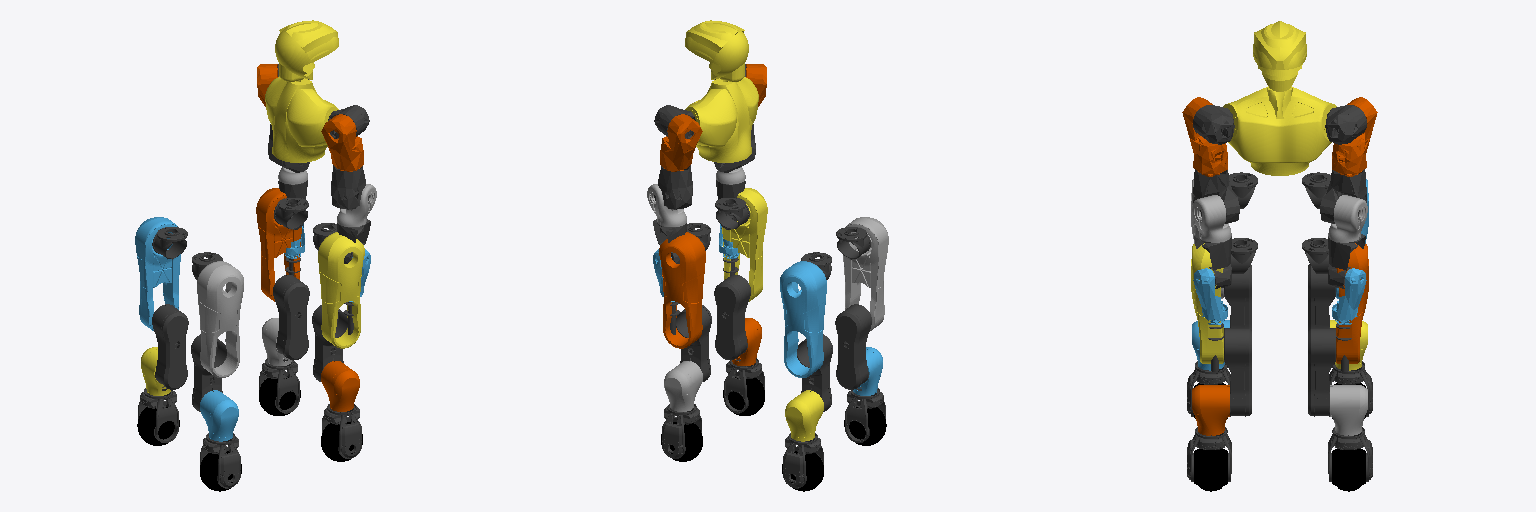
--- Render facts (derived) ---
3 views of the same robot in one strip: view 1: azimuth 30°, elevation 25°; view 2: azimuth 150°, elevation 25°; view 3: azimuth 270°, elevation 25° (orthographic).
Robot: centauro — 44 links, 43 joints (35 revolute, 4 continuous, 3 fixed, 1 floating); root link world; default pose: every joint at zero.
Links seen in each view (by area): view 1: torso_2, hip2_4, hip2_2, hip2_3, knee_1, knee_3, hip2_1, arm2_2, ankle1_2, ankle1_4, ankle2_4, ankle2_2 (+16 smaller); view 2: torso_2, hip2_3, hip2_1, hip2_4, knee_2, knee_4, hip2_2, arm1_2, ankle1_1, ankle1_3, ankle2_3, ankle2_1 (+16 smaller); view 3: torso_2, knee_1, knee_2, ankle1_1, ankle1_2, hip2_1, hip2_2, arm1_2, arm2_2, arm1_4, arm2_4, wheel_1 (+19 smaller).
Boxes of the visible links, <box> form: torso_2: <box>265,20,338,162</box>; hip2_4: <box>197,261,243,377</box>; hip2_2: <box>318,232,364,348</box>; hip2_3: <box>135,217,180,330</box>; knee_1: <box>273,275,309,359</box>; knee_3: <box>152,304,188,389</box>; hip2_1: <box>256,188,301,301</box>; arm2_2: <box>321,114,363,171</box>; ankle1_2: <box>321,361,359,411</box>; ankle1_4: <box>200,390,238,441</box>; ankle2_4: <box>200,433,240,488</box>; ankle2_2: <box>322,404,361,458</box>; torso_2: <box>685,20,758,162</box>; hip2_3: <box>780,261,826,377</box>; hip2_1: <box>659,232,705,348</box>; hip2_4: <box>843,217,888,330</box>; knee_2: <box>714,275,750,359</box>; knee_4: <box>835,304,871,389</box>; hip2_2: <box>722,188,767,301</box>; arm1_2: <box>660,114,702,171</box>; ankle1_1: <box>664,361,702,411</box>; ankle1_3: <box>785,390,823,441</box>; ankle2_3: <box>783,433,823,488</box>; ankle2_1: <box>662,404,701,458</box>; torso_2: <box>1223,21,1336,175</box>; knee_1: <box>1308,328,1335,416</box>; knee_2: <box>1224,328,1251,416</box>; ankle1_1: <box>1330,385,1367,435</box>; ankle1_2: <box>1192,385,1229,435</box>; hip2_1: <box>1336,243,1368,363</box>; hip2_2: <box>1191,243,1223,363</box>; arm1_2: <box>1332,97,1377,176</box>; arm2_2: <box>1182,97,1227,176</box>; arm1_4: <box>1328,195,1367,242</box>; arm2_4: <box>1192,195,1231,242</box>; wheel_1: <box>1332,449,1365,491</box>.
Bounding box of the posed robot: 0.7133 × 0.6319 × 1.64 m (x, y, z).
41 mesh visuals loaded from 16 distinct referenced files (15 binary STL); not drawn: 1 (reference not matched to a file when rendering).

robot.urdf — centauro:
<?xml version="1.0" ?>
<!-- =================================================================================== -->
<!-- |    This document was autogenerated by xacro from centauro.urdf.xacro            | -->
<!-- |    EDITING THIS FILE BY HAND IS NOT RECOMMENDED                                 | -->
<!-- =================================================================================== -->
<robot name="centauro" xmlns:xacro="http://www.ros.org/wiki/xacro">
  <!-- /constants -->
  <!-- Here all arguments from launch file are evaluated to the final xacro poropeties.
     Also all the parameter dependencies are resolved-->
  <material name="grey">
    <color rgba="0.5 0.5 0.5 1"/>
  </material>
  <material name="dark_grey">
    <color rgba="0.3 0.3 0.3 1"/>
  </material>
  <material name="blue">
    <color rgba="0.0 0.2 0.3 1"/>
  </material>
  <material name="red">
    <color rgba="0.5 0.1 0.2 1"/>
  </material>
  <material name="black">
    <color rgba="0.0 0.0 0.0 1"/>
  </material>
  <!-- Here all arguments from launch file are evaluated to the final xacro poropeties.
     Also all the parameter dependencies are resolved-->
  <!-- load proper collision model -->
  <!-- load proper collision model -->
  <!-- load proper collision model -->
  <!-- load proper collision model -->
  <!-- Here all arguments from launch file are evaluated to the final xacro poropeties.
     Also all the parameter dependencies are resolved-->
  <!-- load proper collision model -->
  <!-- load proper collision model -->
  <!-- load proper collision model -->
  <!-- load proper collision model -->
  <!-- /macro legs -->
  <!-- /macro arms -->
  <!-- /other files -->
  <!-- reference -->
  <!-- <link name="base_link"/>

<joint name="base_joint" type="fixed">
   <origin xyz="0 0 0"/>
   <parent link="base_link"/>
   <child link="world"/>
</joint>
-->
  <link name="world"/>
  <link name="pelvis">
    <inertial>
      <origin xyz="-0.013541342 -0.0029098264 0.01400721"/>
      <mass value="24.190945"/>
      <inertia ixx="0.20021119" ixy="-0.0038421093" ixz="-0.033298849" iyy="0.51136214" iyz="0.004469847" izz="0.54401411"/>
    </inertial>
    <visual>
      <origin rpy="0.0 0.0 0.0" xyz="0.0 0 0.0"/>
      <geometry>
        <mesh filename="package://centauro/centauro_urdf/meshes/pelvis.stl" scale="0.001 0.001 0.001"/>
      </geometry>
    </visual>
    <collision>
      <origin rpy="0.0 0.0 0.0" xyz="0.0 0 0.0"/>
      <geometry>
        <mesh filename="package://centauro/centauro_urdf/meshes/convex_hull/pelvis.stl" scale="0.001 0.001 0.001"/>
      </geometry>
    </collision>
  </link>
  <link name="imu_link">
    <inertial>
      <mass value="0.0"/>
      <inertia ixx="0.0" ixy="0.0" ixz="0.0" iyy="0.0" iyz="0.0" izz="0.0"/>
    </inertial>
  </link>
  <joint name="imu_joint" type="fixed">
    <parent link="pelvis"/>
    <origin rpy="0.0 0.0 0.0" xyz="0.0 0.0 0.0"/>
    <child link="imu_link"/>
  </joint>
  <joint name="reference" type="floating">
    <origin xyz="0.0 0.0 0.93445"/>
    <parent link="world"/>
    <child link="pelvis"/>
  </joint>
  <!-- /reference  -->
  <!-- torso links -->
  <link name="torso_2">
    <inertial>
      <origin xyz="0.0064454169 0.0021390093 0.14302095"/>
      <mass value="6.1886404"/>
      <inertia ixx="0.063643392" ixy="8.939e-05" ixz="-0.00086873" iyy="0.02680235" iyz="-4.657e-05" izz="0.04743015"/>
    </inertial>
    <visual>
      <origin rpy="0.0 0.0 0.0" xyz="0.0 0 0.0"/>
      <geometry>
        <mesh filename="package://centauro/centauro_urdf/meshes/link1.stl" scale="0.001 0.001 0.001"/>
      </geometry>
    </visual>
    <collision>
      <origin rpy="0.0 0.0 0.0" xyz="0.0 0 0.0"/>
      <geometry>
        <mesh filename="package://centauro/centauro_urdf/meshes/convex_hull/link1.stl" scale="0.001 0.001 0.001"/>
      </geometry>
    </collision>
  </link>
  <!-- /torso links -->
  <!-- torso joints -->
  <joint name="torso_yaw" type="revolute">
    <parent link="pelvis"/>
    <origin xyz="0.2 0.0 0.256"/>
    <child link="torso_2"/>
    <axis xyz="0 0 1"/>
    <limit effort="147" lower="-2.618" upper="2.618" velocity="5.7"/>
    <!-- TODO -->
  </joint>
  <!-- /torso joints -->
  <transmission name="t_torso_yaw">
    <type> transmission_interface/SimpleTransmission</type>
    <joint name="torso_yaw">
      <hardwareInterface>hardware_interface/EffortJointInterface</hardwareInterface>
    </joint>
    <actuator name="motor_torso_yaw">
      <hardwareInterface>hardware_interface/EffortJointInterface</hardwareInterface>
      <machanicalReduction>1</machanicalReduction>
    </actuator>
    <robotNamespace>/centauro</robotNamespace>
  </transmission>
  <!-- /torso actuators -->
  <!-- /torso -->
  <!-- LINKS -->
  <!-- shoulder yaw-roll-->
  <link name="arm1_1">
    <inertial>
      <origin xyz="-0.0031005886 0.040324584 0.007451937"/>
      <mass value="1.5583338"/>
      <inertia ixx="0.0032318636" ixy="4.24587e-05" ixz="4.91626e-05" iyy="0.00275718" iyz="-0.0002387056" izz="0.004275047"/>
    </inertial>
    <visual>
      <origin rpy="0.0 0.0 0.0" xyz="0.0 0.0 0.0"/>
      <geometry>
        <mesh filename="package://centauro/centauro_urdf/meshes/link2.stl" scale="0.001 -0.001 0.001"/>
      </geometry>
      <material name="dark_grey"/>
    </visual>
    <collision>
      <origin rpy="0.0 0.0 0.0" xyz="0.0 0.0 0.0"/>
      <geometry>
        <mesh filename="package://centauro/centauro_urdf/meshes/convex_hull/link2.stl" scale="0.001 -0.001 0.001"/>
      </geometry>
    </collision>
  </link>
  <!-- shoulder yaw-roll-->
  <!-- shoulder roll-pitch-->
  <link name="arm1_2">
    <inertial>
      <origin xyz="0.05105435 0.00011109 -0.07643596"/>
      <mass value="1.515061"/>
      <inertia ixx="0.01029558" ixy="2.846e-05" ixz="0.0036567" iyy="0.01178018" iyz="2.088e-05" izz="0.00386123"/>
    </inertial>
    <visual>
      <origin rpy="0.0 0.0 0.0" xyz="0.0 0.0 0.0"/>
      <geometry>
        <mesh filename="package://centauro/centauro_urdf/meshes/link3.stl" scale="0.001 -0.001 0.001"/>
      </geometry>
    </visual>
    <collision>
      <origin rpy="0.0 0.0 0.0" xyz="0.0 0.0 0.0"/>
      <geometry>
        <mesh filename="package://centauro/centauro_urdf/meshes/convex_hull/link3.stl" scale="0.001 -0.001 0.001"/>
      </geometry>
    </collision>
  </link>
  <!-- shoulder roll-pitch-->
  <!-- shoulder-elbow -->
  <link name="arm1_3">
    <inertial>
      <origin xyz="0.01207624 0.00322013 -0.03427312"/>
      <mass value="1.5088101"/>
      <inertia ixx="0.00469819" ixy="-0.00026547" ixz="0.00077706" iyy="0.00501755" iyz="0.00029679" izz="0.00310954"/>
    </inertial>
    <visual>
      <origin rpy="0.0 0.0 0.0" xyz="0.0 0.0 0.0"/>
      <geometry>
        <mesh filename="package://centauro/centauro_urdf/meshes/link4.stl" scale="0.001 -0.001 0.001"/>
      </geometry>
      <material name="dark_grey"/>
    </visual>
    <collision>
      <origin rpy="0.0 0.0 0.0" xyz="0.0 0.0 0.0"/>
      <geometry>
        <mesh filename="package://centauro/centauro_urdf/meshes/convex_hull/link4.stl" scale="0.001 -0.001 0.001"/>
      </geometry>
    </collision>
  </link>
  <!-- /shoulder-elbow -->
  <!-- elbow yaw-pitch -->
  <link name="arm1_4">
    <inertial>
      <origin xyz="0.010147552 -0.029928537 -0.032528288"/>
      <mass value="0.96297329"/>
      <inertia ixx="0.0026493567" ixy="5.1632e-06" ixz="0.0001292309" iyy="0.0023470955" iyz="-0.0007895755" izz="0.0012213063"/>
    </inertial>
    <visual>
      <origin rpy="0.0 0.0 0.0" xyz="0.0 0.0 0.0"/>
      <geometry>
        <mesh filename="package://centauro/centauro_urdf/meshes/link5.stl" scale="0.001 -0.001 0.001"/>
      </geometry>
    </visual>
    <collision>
      <origin rpy="0.0 0.0 0.0" xyz="0.0 0.0 0.0"/>
      <geometry>
        <mesh filename="package://centauro/centauro_urdf/meshes/convex_hull/link5.stl" scale="0.001 -0.001 0.001"/>
      </geometry>
    </collision>
  </link>
  <!-- /elbow yaw-pitch -->
  <!-- elbow-wrist -->
  <link name="arm1_5">
    <inertial>
      <origin xyz="-0.0001574443 0.0041320907 -0.10756614"/>
      <mass value="1.4703698"/>
      <inertia ixx="0.0064160453" ixy="1.96382e-05" ixz="2.49912e-05" iyy="0.0062016367" iyz="-0.0001987903" izz="0.0017091658"/>
    </inertial>
    <visual>
      <origin rpy="0.0 0.0 0.0" xyz="0.0 0.0 0.0"/>
      <geometry>
        <mesh filename="package://centauro/centauro_urdf/meshes/link6.stl" scale="0.001 -0.001 0.001"/>
      </geometry>
      <material name="dark_grey"/>
    </visual>
    <collision>
      <origin rpy="0.0 0.0 0.0" xyz="0.0 0.0 0.0"/>
      <geometry>
        <mesh filename="package://centauro/centauro_urdf/meshes/convex_hull/link6.stl" scale="0.001 -0.001 0.001"/>
      </geometry>
    </collision>
  </link>
  <!-- /elbow-wrist -->
  <!-- wrist yaw-pitch -->
  <link name="arm1_6">
    <inertial>
      <origin xyz="3.23645e-05 -0.035947237 -0.080878061"/>
      <mass value="0.94693868"/>
      <inertia ixx="0.0036896582" ixy="2.63667e-05" ixz="1.4005e-06" iyy="0.0034146283" iyz="-0.0008268103" izz="0.0010790183"/>
    </inertial>
    <visual>
      <origin rpy="0.0 0.0 0.0" xyz="0.0 0.0 0.0"/>
      <geometry>
        <mesh filename="package://centauro/centauro_urdf/meshes/link7.stl" scale="0.001 -0.001 0.001"/>
      </geometry>
    </visual>
    <collision>
      <origin rpy="0.0 0.0 0.0" xyz="0.0 0.0 0.0"/>
      <geometry>
        <mesh filename="package://centauro/centauro_urdf/meshes/convex_hull/link7.stl" scale="0.001 -0.001 0.001"/>
      </geometry>
    </collision>
  </link>
  <!-- /wrist yaw-pitch -->
  <link name="arm1_7">
    <inertial>
      <origin xyz="2.46596e-05 -0.0001467705 -0.0052993013"/>
      <mass value="0.55981036"/>
      <inertia ixx="0.0004360175" ixy="1.397e-07" ixz="-1.382e-07" iyy="0.0004299166" iyz="-1.4752e-06" izz="0.0004522224"/>
    </inertial>
    <visual>
      <origin rpy="0.0 0.0 0.0" xyz="0.0 0.0 0.0"/>
      <geometry>
        <mesh filename="package://centauro/centauro_urdf/meshes/link8.stl" scale="0.001 -0.001 0.001"/>
      </geometry>
      <material name="dark_grey"/>
    </visual>
    <collision>
      <origin rpy="0.0 0.0 0.0" xyz="0.0 0.0 0.0"/>
      <geometry>
        <mesh filename="package://centauro/centauro_urdf/meshes/convex_hull/link8.stl" scale="0.001 -0.001 0.001"/>
      </geometry>
    </collision>
  </link>
  <!-- /LINKS -->
  <!-- JOINTS -->
  <!-- shoulder yaw -->
  <joint name="j_arm1_1" type="revolute">
    <parent link="torso_2"/>
    <child link="arm1_1"/>
    <origin rpy="0.0 0.0 -0.523602668986" xyz="0.04576 0.169137 0.116626"/>
    <axis xyz="0 0.984807753012 0.173648177667"/>
    <limit effort="147" lower="-3.403" upper="1.658" velocity="5.7"/>
  </joint>
  <!-- /shoulder yaw -->
  <!-- shoulder roll -->
  <joint name="j_arm1_2" type="revolute">
    <parent link="arm1_1"/>
    <child link="arm1_2"/>
    <origin xyz="-0.09115 0.06106 0.010766"/>
    <axis xyz="-1 0 0"/>
    <limit effort="147" lower="-3.49" upper="0" velocity="5.7"/>
  </joint>
  <!-- /shoulder roll -->
  <!-- shoulder pitch-->
  <joint name="j_arm1_3" type="revolute">
    <parent link="arm1_2"/>
    <child link="arm1_3"/>
    <origin xyz="0.09115 0.0 -0.21915"/>
    <axis xyz="0 0 -1"/>
    <limit effort="147" lower="-2.618" upper="2.618" velocity="8.2"/>
  </joint>
  <!-- /shoulder pitch -->
  <!-- elbow yaw -->
  <joint name="j_arm1_4" type="revolute">
    <parent link="arm1_3"/>
    <child link="arm1_4"/>
    <origin xyz="0.04 0.05615 -0.074"/>
    <axis xyz="0 1 0"/>
    <limit effort="147" lower="-2.530" upper="0.349" velocity="8.2"/>
  </joint>
  <!-- /elbow yaw -->
  <!-- elbow pitch-->
  <joint name="j_arm1_5" type="revolute">
    <parent link="arm1_4"/>
    <child link="arm1_5"/>
    <origin xyz="-0.015 -0.05615 -0.061"/>
    <axis xyz="0 0 -1"/>
    <limit effort="55" lower="-2.618" upper="2.618" velocity="11.6"/>
  </joint>
  <!-- /elbow pitch-->
  <!-- wrist yaw-->
  <joint name="j_arm1_6" type="revolute">
    <parent link="arm1_5"/>
    <child link="arm1_6"/>
    <origin xyz="0.0 0.049 -0.18"/>
    <axis xyz="0 1 0"/>
    <limit effort="55" lower="-1.570" upper="1.570" velocity="11.6"/>
  </joint>
  <!-- /wrist yaw-->
  <!-- wrist pitch-->
  <joint name="j_arm1_7" type="revolute">
    <parent link="arm1_6"/>
    <child link="arm1_7"/>
    <origin xyz="0.0 -0.049 -0.169"/>
    <axis xyz="0 0 -1"/>
    <limit effort="27" lower="-2.618" upper="2.618" velocity="20.3"/>
  </joint>
  <!-- wrist pitch-->
  <!-- force-troque sensor -->
  <transmission name="t_j_arm1_1">
    <type> transmission_interface/SimpleTransmission</type>
    <joint name="j_arm1_1">
      <hardwareInterface>hardware_interface/EffortJointInterface</hardwareInterface>
    </joint>
    <actuator name="motor_j_arm1_1">
      <hardwareInterface>hardware_interface/EffortJointInterface</hardwareInterface>
      <machanicalReduction>1</machanicalReduction>
    </actuator>
    <robotNamespace>/centauro</robotNamespace>
  </transmission>
  <transmission name="t_j_arm1_2">
    <type> transmission_interface/SimpleTransmission</type>
    <joint name="j_arm1_2">
      <hardwareInterface>hardware_interface/EffortJointInterface</hardwareInterface>
    </joint>
    <actuator name="motor_j_arm1_2">
      <hardwareInterface>hardware_interface/EffortJointInterface</hardwareInterface>
      <machanicalReduction>1</machanicalReduction>
    </actuator>
    <robotNamespace>/centauro</robotNamespace>
  </transmission>
  <transmission name="t_j_arm1_3">
    <type> transmission_interface/SimpleTransmission</type>
    <joint name="j_arm1_3">
      <hardwareInterface>hardware_interface/EffortJointInterface</hardwareInterface>
    </joint>
    <actuator name="motor_j_arm1_3">
      <hardwareInterface>hardware_interface/EffortJointInterface</hardwareInterface>
      <machanicalReduction>1</machanicalReduction>
    </actuator>
    <robotNamespace>/centauro</robotNamespace>
  </transmission>
  <transmission name="t_j_arm1_4">
    <type> transmission_interface/SimpleTransmission</type>
    <joint name="j_arm1_4">
      <hardwareInterface>hardware_interface/EffortJointInterface</hardwareInterface>
    </joint>
    <actuator name="motor_j_arm1_4">
      <hardwareInterface>hardware_interface/EffortJointInterface</hardwareInterface>
      <machanicalReduction>1</machanicalReduction>
    </actuator>
    <robotNamespace>/centauro</robotNamespace>
  </transmission>
  <transmission name="t_j_arm1_5">
    <type> transmission_interface/SimpleTransmission</type>
    <joint name="j_arm1_5">
      <hardwareInterface>hardware_interface/EffortJointInterface</hardwareInterface>
    </joint>
    <actuator name="motor_j_arm1_5">
      <hardwareInterface>hardware_interface/EffortJointInterface</hardwareInterface>
      <machanicalReduction>1</machanicalReduction>
    </actuator>
    <robotNamespace>/centauro</robotNamespace>
  </transmission>
  <transmission name="t_j_arm1_6">
    <type> transmission_interface/SimpleTransmission</type>
    <joint name="j_arm1_6">
      <hardwareInterface>hardware_interface/EffortJointInterface</hardwareInterface>
    </joint>
    <actuator name="motor_j_arm1_6">
      <hardwareInterface>hardware_interface/EffortJointInterface</hardwareInterface>
      <machanicalReduction>1</machanicalReduction>
    </actuator>
    <robotNamespace>/centauro</robotNamespace>
  </transmission>
  <transmission name="t_j_arm1_7">
    <type> transmission_interface/SimpleTransmission</type>
    <joint name="j_arm1_7">
      <hardwareInterface>hardware_interface/EffortJointInterface</hardwareInterface>
    </joint>
    <actuator name="motor_j_arm1_7">
      <hardwareInterface>hardware_interface/EffortJointInterface</hardwareInterface>
      <machanicalReduction>1</machanicalReduction>
    </actuator>
    <robotNamespace>/centauro</robotNamespace>
  </transmission>
  <!-- /actuators -->
  <!-- links -->
  <link name="arm1_8">
    <inertial>
      <origin rpy="0 0 0" xyz="0.001 0.0 0.006"/>
      <mass value="0.15"/>
      <inertia ixx="0.0002" ixy="0.0" ixz="0.0" iyy="0.0002" iyz="0.0" izz="1e-05"/>
      <!--          <inertia ixx="0.003"  ixy="0"  ixz="0" iyy="0.0025" iyz="0" izz="0.00016900" /> -->
    </inertial>
    <visual>
      <origin rpy="0.0 0.0 0.0" xyz="0.0 0.0 0.0"/>
      <geometry>
        <mesh filename="package://centauro/centauro_urdf/meshes/link9.stl" scale="0.001 -0.001 -0.001"/>
      </geometry>
      <material name="dark_grey"/>
    </visual>
    <collision>
      <origin rpy="0.0 0.0 0.0" xyz="0.0 0.0 0.0"/>
      <geometry>
        <mesh filename="package://centauro/centauro_urdf/meshes/convex_hull/link9.stl" scale="0.001 -0.001 -0.001"/>
      </geometry>
    </collision>
  </link>
  <!-- /links -->
  <!-- joints -->
  <joint name="j_arm1_8" type="fixed">
    <parent link="arm1_7"/>
    <origin rpy="0.0 3.14159265359 -1.5707963268" xyz="0.0 0.0 -0.0405"/>
    <child link="arm1_8"/>
    <axis xyz="1 0 0"/>
  </joint>
   --&gt;

  <!-- /joints -->
  <!-- /end-effector -->
  <!-- LINKS -->
  <!-- shoulder yaw-roll-->
  <link name="arm2_1">
    <inertial>
      <origin xyz="-0.0031005886 -0.040324584 0.007451937"/>
      <mass value="1.5583338"/>
      <inertia ixx="0.0032318636" ixy="-4.24587e-05" ixz="4.91626e-05" iyy="0.00275718" iyz="0.0002387056" izz="0.004275047"/>
    </inertial>
    <visual>
      <origin rpy="0.0 0.0 0.0" xyz="0.0 0.0 0.0"/>
      <geometry>
        <mesh filename="package://centauro/centauro_urdf/meshes/link2.stl" scale="0.001 0.001 0.001"/>
      </geometry>
      <material name="dark_grey"/>
    </visual>
    <collision>
      <origin rpy="0.0 0.0 0.0" xyz="0.0 0.0 0.0"/>
      <geometry>
        <mesh filename="package://centauro/centauro_urdf/meshes/convex_hull/link2.stl" scale="0.001 0.001 0.001"/>
      </geometry>
    </collision>
  </link>
  <!-- shoulder yaw-roll-->
  <!-- shoulder roll-pitch-->
  <link name="arm2_2">
    <inertial>
      <origin xyz="0.05105435 -0.00011109 -0.07643596"/>
      <mass value="1.515061"/>
      <inertia ixx="0.01029558" ixy="-2.846e-05" ixz="0.0036567" iyy="0.01178018" iyz="-2.088e-05" izz="0.00386123"/>
    </inertial>
    <visual>
      <origin rpy="0.0 0.0 0.0" xyz="0.0 0.0 0.0"/>
      <geometry>
        <mesh filename="package://centauro/centauro_urdf/meshes/link3.stl" scale="0.001 0.001 0.001"/>
      </geometry>
    </visual>
    <collision>
      <origin rpy="0.0 0.0 0.0" xyz="0.0 0.0 0.0"/>
      <geometry>
        <mesh filename="package://centauro/centauro_urdf/meshes/convex_hull/link3.stl" scale="0.001 0.001 0.001"/>
      </geometry>
    </collision>
  </link>
  <!-- shoulder roll-pitch-->
  <!-- shoulder-elbow -->
  <link name="arm2_3">
    <inertial>
      <origin xyz="0.01207624 -0.00322013 -0.03427312"/>
      <mass value="1.5088101"/>
      <inertia ixx="0.00469819" ixy="0.00026547" ixz="0.00077706" iyy="0.00501755" iyz="-0.00029679" izz="0.00310954"/>
    </inertial>
    <visual>
      <origin rpy="0.0 0.0 0.0" xyz="0.0 0.0 0.0"/>
      <geometry>
        <mesh filename="package://centauro/centauro_urdf/meshes/link4.stl" scale="0.001 0.001 0.001"/>
      </geometry>
      <material name="dark_grey"/>
    </visual>
    <collision>
      <origin rpy="0.0 0.0 0.0" xyz="0.0 0.0 0.0"/>
      <geometry>
        <mesh filename="package://centauro/centauro_urdf/meshes/convex_hull/link4.stl" scale="0.001 0.001 0.001"/>
      </geometry>
    </collision>
  </link>
  <!-- /shoulder-elbow -->
  <!-- elbow yaw-pitch -->
  <link name="arm2_4">
    <inertial>
      <origin xyz="0.010147552 0.029928537 -0.032528288"/>
      <mass value="0.96297329"/>
      <inertia ixx="0.0026493567" ixy="-5.1632e-06" ixz="0.0001292309" iyy="0.0023470955" iyz="0.0007895755" izz="0.0012213063"/>
    </inertial>
    <visual>
      <origin rpy="0.0 0.0 0.0" xyz="0.0 0.0 0.0"/>
      <geometry>
        <mesh filename="package://centauro/centauro_urdf/meshes/link5.stl" scale="0.001 0.001 0.001"/>
      </geometry>
    </visual>
    <collision>
      <origin rpy="0.0 0.0 0.0" xyz="0.0 0.0 0.0"/>
      <geometry>
        <mesh filename="package://centauro/centauro_urdf/meshes/convex_hull/link5.stl" scale="0.001 0.001 0.001"/>
      </geometry>
    </collision>
  </link>
  <!-- /elbow yaw-pitch -->
  <!-- elbow-wrist -->
  <link name="arm2_5">
    <inertial>
      <origin xyz="-0.0001574443 -0.0041320907 -0.10756614"/>
      <mass value="1.4703698"/>
      <inertia ixx="0.0064160453" ixy="-1.96382e-05" ixz="2.49912e-05" iyy="0.0062016367" iyz="0.0001987903" izz="0.0017091658"/>
    </inertial>
    <visual>
      <origin rpy="0.0 0.0 0.0" xyz="0.0 0.0 0.0"/>
      <geometry>
        <mesh filename="package://centauro/centauro_urdf/meshes/link6.stl" scale="0.001 0.001 0.001"/>
      </geometry>
      <material name="dark_grey"/>
    </visual>
    <collision>
      <origin rpy="0.0 0.0 0.0" xyz="0.0 0.0 0.0"/>
      <geometry>
        <mesh filename="package://centauro/centauro_urdf/meshes/convex_hull/link6.stl" scale="0.001 0.001 0.001"/>
      </geometry>
    </collision>
  </link>
  <!-- /elbow-wrist -->
  <!-- wrist yaw-pitch -->
  <link name="arm2_6">
    <inertial>
      <origin xyz="3.23645e-05 0.035947237 -0.080878061"/>
      <mass value="0.94693868"/>
      <inertia ixx="0.0036896582" ixy="-2.63667e-05" ixz="1.4005e-06" iyy="0.0034146283" iyz="0.0008268103" izz="0.0010790183"/>
    </inertial>
    <visual>
      <origin rpy="0.0 0.0 0.0" xyz="0.0 0.0 0.0"/>
      <geometry>
        <mesh filename="package://centauro/centauro_urdf/meshes/link7.stl" scale="0.001 0.001 0.001"/>
      </geometry>
    </visual>
    <collision>
      <origin rpy="0.0 0.0 0.0" xyz="0.0 0.0 0.0"/>
      <geometry>
        <mesh filename="package://centauro/centauro_urdf/meshes/convex_hull/link7.stl" scale="0.001 0.001 0.001"/>
      </geometry>
    </collision>
  </link>
  <!-- /wrist yaw-pitch -->
  <link name="arm2_7">
    <inertial>
      <origin xyz="2.46596e-05 0.0001467705 -0.0052993013"/>
      <mass value="0.55981036"/>
      <inertia ixx="0.0004360175" ixy="-1.397e-07" ixz="-1.382e-07" iyy="0.0004299166" iyz="1.4752e-06" izz="0.0004522224"/>
    </inertial>
    <visual>
      <origin rpy="0.0 0.0 0.0" xyz="0.0 0.0 0.0"/>
      <geometry>
        <mesh filename="package://centauro/centauro_urdf/meshes/link8.stl" scale="0.001 0.001 0.001"/>
      </geometry>
      <material name="dark_grey"/>
    </visual>
    <collision>
      <origin rpy="0.0 0.0 0.0" xyz="0.0 0.0 0.0"/>
      <geometry>
        <mesh filename="package://centauro/centauro_urdf/meshes/convex_hull/link8.stl" scale="0.001 0.001 0.001"/>
      </geometry>
    </collision>
  </link>
  <!-- /LINKS -->
  <!-- JOINTS -->
  <!-- shoulder yaw -->
  <joint name="j_arm2_1" type="revolute">
    <parent link="torso_2"/>
    <child link="arm2_1"/>
    <origin rpy="0.0 0.0 0.523602668986" xyz="0.04576 -0.169137 0.116626"/>
    <axis xyz="0 -0.984807753012 0.173648177667"/>
    <limit effort="147" lower="-1.658" upper="3.403" velocity="5.7"/>
  </joint>
  <!-- /shoulder yaw -->
  <!-- shoulder roll -->
  <joint name="j_arm2_2" type="revolute">
    <parent link="arm2_1"/>
    <child link="arm2_2"/>
    <origin xyz="-0.09115 -0.06106 0.010766"/>
    <axis xyz="-1 0 0"/>
    <limit effort="147" lower="0" upper="3.49" velocity="5.7"/>
  </joint>
  <!-- /shoulder roll -->
  <!-- shoulder pitch-->
  <joint name="j_arm2_3" type="revolute">
    <parent link="arm2_2"/>
    <child link="arm2_3"/>
    <origin xyz="0.09115 0.0 -0.21915"/>
    <axis xyz="0 0 -1"/>
    <limit effort="147" lower="-2.618" upper="2.618" velocity="8.2"/>
  </joint>
  <!-- /shoulder pitch -->
  <!-- elbow yaw -->
  <joint name="j_arm2_4" type="revolute">
    <parent link="arm2_3"/>
    <child link="arm2_4"/>
    <origin xyz="0.04 -0.05615 -0.074"/>
    <axis xyz="0 -1 0"/>
    <limit effort="147" lower="-0.349" upper="2.530" velocity="8.2"/>
  </joint>
  <!-- /elbow yaw -->
  <!-- elbow pitch-->
  <joint name="j_arm2_5" type="revolute">
    <parent link="arm2_4"/>
    <child link="arm2_5"/>
    <origin xyz="-0.015 0.05615 -0.061"/>
    <axis xyz="0 0 -1"/>
    <limit effort="55" lower="-2.618" upper="2.618" velocity="11.6"/>
  </joint>
  <!-- /elbow pitch-->
  <!-- wrist yaw-->
  <joint name="j_arm2_6" type="revolute">
    <parent link="arm2_5"/>
    <child link="arm2_6"/>
    <origin xyz="0.0 -0.049 -0.18"/>
    <axis xyz="0 -1 0"/>
    <limit effort="55" lower="-1.570" upper="1.570" velocity="11.6"/>
  </joint>
  <!-- /wrist yaw-->
  <!-- wrist pitch-->
  <joint name="j_arm2_7" type="revolute">
    <parent link="arm2_6"/>
    <child link="arm2_7"/>
    <origin xyz="0.0 0.049 -0.169"/>
    <axis xyz="0 0 -1"/>
    <limit effort="27" lower="-2.618" upper="2.618" velocity="20.3"/>
  </joint>
  <!-- wrist pitch-->
  <!-- force-troque sensor -->
  <transmission name="t_j_arm2_1">
    <type> transmission_interface/SimpleTransmission</type>
    <joint name="j_arm2_1">
      <hardwareInterface>hardware_interface/EffortJointInterface</hardwareInterface>
    </joint>
    <actuator name="motor_j_arm2_1">
      <hardwareInterface>hardware_interface/EffortJointInterface</hardwareInterface>
      <machanicalReduction>1</machanicalReduction>
    </actuator>
    <robotNamespace>/centauro</robotNamespace>
  </transmission>
  <transmission name="t_j_arm2_2">
    <type> transmission_interface/SimpleTransmission</type>
    <joint name="j_arm2_2">
      <hardwareInterface>hardware_interface/EffortJointInterface</hardwareInterface>
    </joint>
    <actuator name="motor_j_arm2_2">
      <hardwareInterface>hardware_interface/EffortJointInterface</hardwareInterface>
      <machanicalReduction>1</machanicalReduction>
    </actuator>
    <robotNamespace>/centauro</robotNamespace>
  </transmission>
  <transmission name="t_j_arm2_3">
    <type> transmission_interface/SimpleTransmission</type>
    <joint name="j_arm2_3">
      <hardwareInterface>hardware_interface/EffortJointInterface</hardwareInterface>
    </joint>
    <actuator name="motor_j_arm2_3">
      <hardwareInterface>hardware_interface/EffortJointInterface</hardwareInterface>
      <machanicalReduction>1</machanicalReduction>
    </actuator>
    <robotNamespace>/centauro</robotNamespace>
  </transmission>
  <transmission name="t_j_arm2_4">
    <type> transmission_interface/SimpleTransmission</type>
    <joint name="j_arm2_4">
      <hardwareInterface>hardware_interface/EffortJointInterface</hardwareInterface>
    </joint>
    <actuator name="motor_j_arm2_4">
      <hardwareInterface>hardware_interface/EffortJointInterface</hardwareInterface>
      <machanicalReduction>1</machanicalReduction>
    </actuator>
    <robotNamespace>/centauro</robotNamespace>
  </transmission>
  <transmission name="t_j_arm2_5">
    <type> transmission_interface/SimpleTransmission</type>
    <joint name="j_arm2_5">
      <hardwareInterface>hardware_interface/EffortJointInterface</hardwareInterface>
    </joint>
    <actuator name="motor_j_arm2_5">
      <hardwareInterface>hardware_interface/EffortJointInterface</hardwareInterface>
      <machanicalReduction>1</machanicalReduction>
    </actuator>
    <robotNamespace>/centauro</robotNamespace>
  </transmission>
  <transmission name="t_j_arm2_6">
    <type> transmission_interface/SimpleTransmission</type>
    <joint name="j_arm2_6">
      <hardwareInterface>hardware_interface/EffortJointInterface</hardwareInterface>
    </joint>
    <actuator name="motor_j_arm2_6">
      <hardwareInterface>hardware_interface/EffortJointInterface</hardwareInterface>
      <machanicalReduction>1</machanicalReduction>
    </actuator>
    <robotNamespace>/centauro</robotNamespace>
  </transmission>
  <transmission name="t_j_arm2_7">
    <type> transmission_interface/SimpleTransmission</type>
    <joint name="j_arm2_7">
      <hardwareInterface>hardware_interface/EffortJointInterface</hardwareInterface>
    </joint>
    <actuator name="motor_j_arm2_7">
      <hardwareInterface>hardware_interface/EffortJointInterface</hardwareInterface>
      <machanicalReduction>1</machanicalReduction>
    </actuator>
    <robotNamespace>/centauro</robotNamespace>
  </transmission>
  <!-- /actuators -->
  <!-- links -->
  <link name="arm2_8">
    <inertial>
      <origin rpy="0 0 0" xyz="0.001 0.0 0.006"/>
      <mass value="0.15"/>
      <inertia ixx="0.0002" ixy="0.0" ixz="0.0" iyy="0.0002" iyz="0.0" izz="1e-05"/>
      <!--          <inertia ixx="0.003"  ixy="0"  ixz="0" iyy="0.0025" iyz="0" izz="0.00016900" /> -->
    </inertial>
    <visual>
      <origin rpy="0.0 0.0 0.0" xyz="0.0 0.0 0.0"/>
      <geometry>
        <mesh filename="package://centauro/centauro_urdf/meshes/link9.stl" scale="0.001 0.001 -0.001"/>
      </geometry>
      <material name="dark_grey"/>
    </visual>
    <collision>
      <origin rpy="0.0 0.0 0.0" xyz="0.0 0.0 0.0"/>
      <geometry>
        <mesh filename="package://centauro/centauro_urdf/meshes/convex_hull/link9.stl" scale="0.001 0.001 -0.001"/>
      </geometry>
    </collision>
  </link>
  <!-- /links -->
  <!-- joints -->
  <joint name="j_arm2_8" type="fixed">
    <parent link="arm2_7"/>
    <origin rpy="0.0 3.14159265359 -1.5707963268" xyz="0.0 0.0 -0.0405"/>
    <child link="arm2_8"/>
    <axis xyz="1 0 0"/>
  </joint>
   --&gt;

  <!-- /joints -->
  <!-- /end-effector -->
  <!-- /arms -->
  <link name="hip1_1">
    <inertial>
      <origin xyz="0.010214199 -0.018348359 0.038090987"/>
      <mass value="1.9194403"/>
      <!-- org: 2 -->
      <inertia ixx="0.0047439572" ixy="0.0005747047" ixz="-0.0003784138" iyy="0.0040551878" iyz="0.0007407508" izz="0.0034146219"/>
      <!-- <inertia ixx="0.01" ixy="0.01" ixz="0.01" iyy="0.01" iyz="0.01" izz="0.01"/> -->
    </inertial>
    <visual>
      <origin rpy="0.0 0.0 4.06442490005" xyz="0.0 0.0 0.0"/>
      <geometry>
        <mesh filename="package://centauro/centauro_urdf/meshes/hip-yaw.stl" scale="0.001 0.001 0.001"/>
      </geometry>
      <material name="dark_grey"/>
    </visual>
    <collision>
      <origin rpy="0.0 0.0 4.06442490005" xyz="0.0 0.0 0.0"/>
      <geometry>
        <mesh filename="package://centauro/centauro_urdf/meshes/convex_hull/hip-yaw.stl" scale="0.001 0.001 0.001"/>
      </geometry>
    </collision>
  </link>
  <link name="hip2_1">
    <inertial>
      <origin xyz="2.57966e-05 0.1810266 0.085669756"/>
      <mass value="2.7264471"/>
      <!-- org: 4.5 -->
      <inertia ixx="0.04851869" ixy="-4.11894e-05" ixz="-1.68778e-05" iyy="0.004242055" iyz="0.0032243188" izz="0.04825583"/>
      <!-- <inertia ixx="0.01" ixy="0.01" ixz="0.01" iyy="0.01" iyz="0.01" izz="0.01"/> -->
    </inertial>
    <visual>
      <origin rpy="0.0 0.0 0.0" xyz="0.0 0.0 0.0"/>
      <geometry>
        <mesh filename="package://centauro/centauro_urdf/meshes/hip-pitch.stl" scale="0.001 0.001 0.001"/>
      </geometry>
    </visual>
    <collision>
      <origin rpy="0.0 0.0 0.0" xyz="0.0 0.0 0.0"/>
      <geometry>
        <mesh filename="package://centauro/centauro_urdf/meshes/convex_hull/hip-pitch.stl" scale="0.001 0.001 0.001"/>
      </geometry>
    </collision>
  </link>
  <link name="knee_1">
    <inertial>
      <origin xyz="0.10881667 0.0001089081 -0.022638996"/>
      <mass value="1.9356754"/>
      <!-- org: 3.5, foot un modeled-->
      <inertia ixx="0.0030534242" ixy="-4.22079e-05" ixz="0.0013679297" iyy="0.019603321" iyz="6.9941e-06" izz="0.019849817"/>
      <!--	<inertia ixx="0.01" ixy="0.01" ixz="0.01" iyy="0.01" iyz="0.01" izz="0.01"/>  -->
    </inertial>
    <visual>
      <origin rpy="0.0 0.0 0.0" xyz="0.0 0.0 0.0"/>
      <geometry>
        <mesh filename="package://centauro/centauro_urdf/meshes/knee.stl" scale="0.001 0.001 0.001"/>
      </geometry>
      <material name="dark_grey"/>
    </visual>
    <collision>
      <origin rpy="0.0 0.0 0.0" xyz="0.0 0.0 0.0"/>
      <geometry>
        <mesh filename="package://centauro/centauro_urdf/meshes/convex_hull/knee.stl" scale="0.001 0.001 0.001"/>
      </geometry>
    </collision>
  </link>
  <link name="ankle1_1">
    <inertial>
      <origin xyz="0.032137318 9.73572e-05 -0.0044222206"/>
      <mass value="1.2380744"/>
      <!-- org: 3.5, foot un modeled-->
      <inertia ixx="0.0015610452" ixy="3.30597e-05" ixz="-0.0001314174" iyy="0.0037423211" iyz="-2.12589e-05" izz="0.0038312442"/>
      <!--	<inertia ixx="0.01" ixy="0.01" ixz="0.01" iyy="0.01" iyz="0.01" izz="0.01"/>  -->
    </inertial>
    <visual>
      <origin rpy="0.0 0.0 0.0" xyz="0.0 0.0 0.0"/>
      <geometry>
        <mesh filename="package://centauro/centauro_urdf/meshes/ankle-pitch.stl" scale="0.001 0.001 0.001"/>
      </geometry>
    </visual>
    <collision>
      <origin rpy="0.0 0.0 0.0" xyz="0.0 0.0 0.0"/>
      <geometry>
        <mesh filename="package://centauro/centauro_urdf/meshes/convex_hull/ankle-pitch.stl" scale="0.001 0.001 0.001"/>
      </geometry>
    </collision>
  </link>
  <link name="ankle2_1">
    <inertial>
      <origin xyz="0.0004435803 0.0004389911 0.19392092"/>
      <mass value="1.1565926"/>
      <!-- org: 3.5, foot un modeled-->
      <inertia ixx="0.0049019475" ixy="4.3032e-06" ixz="3.46491e-05" iyy="0.0038724162" iyz="1.7099e-05" izz="0.0021783198"/>
    </inertial>
    <visual>
      <origin rpy="0.0 0.0 0.0" xyz="0.0 0.0 0.0"/>
      <geometry>
        <mesh filename="package://centauro/centauro_urdf/meshes/ankle-yaw.stl" scale="0.001 0.001 0.001"/>
      </geometry>
      <material name="dark_grey"/>
    </visual>
    <collision>
      <origin rpy="0.0 0.0 0.0" xyz="0.0 0.0 0.0"/>
      <geometry>
        <mesh filename="package://centauro/centauro_urdf/meshes/convex_hull/ankle-yaw.stl" scale="0.001 0.001 0.001"/>
      </geometry>
    </collision>
  </link>
  <link name="wheel_1">
    <inertial>
      <origin xyz="0.0 0.0 0.0024271906"/>
      <mass value="1.7289003"/>
      <!-- org: 3.5, foot un modeled-->
      <inertia ixx="0.0046864297" ixy="0.0" ixz="0.0" iyy="0.0046713489" iyz="0.0" izz="0.0053126029"/>
    </inertial>
    <visual>
      <origin rpy="0.0 0.0 0.0" xyz="0.0 0.0 0.0"/>
      <geometry>
        <mesh filename="package://centauro/centauro_urdf/meshes/wheel.stl" scale="0.001 0.001 0.001"/>
      </geometry>
      <material name="black"/>
    </visual>
    <collision>
      <origin rpy="0.0 0.0 0.0" xyz="0.0 0.0 0.0"/>
      <geometry>
        <mesh filename="package://centauro/centauro_urdf/meshes/convex_hull/wheel.stl" scale="0.001 0.001 0.001"/>
      </geometry>
    </collision>
  </link>
  <joint name="hip_yaw_1" type="revolute">
    <parent link="pelvis"/>
    <child link="hip1_1"/>
    <origin rpy="3.14159265359 0.0 0.461416123228" xyz="0.25 0.125 -0.0566"/>
    <axis xyz="0 0 1"/>
    <!--xacro:if value="${origin_y*origin_x == -1}">
        <limit lower="-1.13446401" upper="2.70526034" effort="304" velocity="8.8"/> 
        </xacro:if>
        <xacro:if value="${origin_y*origin_x == 1}">
        <limit lower="-2.70526034" upper="1.13446401" effort="304" velocity="8.8"/> 
        </xacro:if-->
    <limit effort="304" lower="-3" upper="3" velocity="8.8"/>
  </joint>
  <joint name="hip_pitch_1" type="revolute">
    <parent link="hip1_1"/>
    <child link="hip2_1"/>
    <origin rpy="1.57079632679 0.0 0.46141612323" xyz="0.0 0.0 0.0625"/>
    <axis xyz="0 0 1"/>
    <!--limit lower="-2.09439510" upper="2.09439510" effort="304" velocity="8.8"/-->
    <limit effort="304" lower="-3" upper="3" velocity="8.8"/>
  </joint>
  <joint name="knee_pitch_1" type="revolute">
    <parent link="hip2_1"/>
    <child link="knee_1"/>
    <origin rpy="3.14159265359 0.0 1.57079632679" xyz="0.0 0.3 -0.0036"/>
    <axis xyz="0 0 1"/>
    <!--limit  lower="-2.61799388" upper="2.61799388" effort="304" velocity="8.8"/-->
    <limit effort="304" lower="-3" upper="3" velocity="8.8"/>
  </joint>
  <joint name="ankle_pitch_1" type="revolute">
    <parent link="knee_1"/>
    <child link="ankle1_1"/>
    <origin rpy="3.14159265359 0.0 0.0" xyz="0.2 0.0 -0.10015"/>
    <axis xyz="0 0 1"/>
    <!--limit  lower="-2.61799388" upper="2.61799388" effort="147" velocity="8.1"/-->
    <limit effort="304" lower="-3" upper="3" velocity="8.8"/>
  </joint>
  <joint name="ankle_yaw_1" type="revolute">
    <parent link="ankle1_1"/>
    <child link="ankle2_1"/>
    <origin rpy="1.57079632679 0.0 1.57079632679" xyz="0.0 0.0 0.0"/>
    <axis xyz="0 0 1"/>
    <limit effort="35" lower="-2.79252680" upper="2.79252680" velocity="20.0"/>
    <!--limit lower="-3" upper="3" effort="304" velocity="8.8"/-->
  </joint>
  <joint name="j_wheel_1" type="continuous">
    <parent link="ankle2_1"/>
    <child link="wheel_1"/>
    <origin rpy="1.57079632679 0.0 3.14159265359" xyz="0.0 0.00085 0.23735"/>
    <axis xyz="0 0 1"/>
    <limit effort="35" velocity="20.0"/>
    <dynamics damping="1.0" friction="10"/>
  </joint>
  <transmission name="t_hip_yaw_1">
    <type> transmission_interface/SimpleTransmission</type>
    <joint name="hip_yaw_1">
      <hardwareInterface>hardware_interface/EffortJointInterface</hardwareInterface>
    </joint>
    <actuator name="motor_hip_yaw_1">
      <hardwareInterface>hardware_interface/EffortJointInterface</hardwareInterface>
      <machanicalReduction>1</machanicalReduction>
    </actuator>
    <robotNamespace>/centauro</robotNamespace>
  </transmission>
  <transmission name="t_hip_pitch_1">
    <type> transmission_interface/SimpleTransmission</type>
    <joint name="hip_pitch_1">
      <hardwareInterface>hardware_interface/EffortJointInterface</hardwareInterface>
    </joint>
    <actuator name="motor_hip_pitch_1">
      <hardwareInterface>hardware_interface/EffortJointInterface</hardwareInterface>
      <machanicalReduction>1</machanicalReduction>
    </actuator>
    <robotNamespace>/centauro</robotNamespace>
  </transmission>
  <transmission name="t_knee_pitch_1">
    <type> transmission_interface/SimpleTransmission</type>
    <joint name="knee_pitch_1">
      <hardwareInterface>hardware_interface/EffortJointInterface</hardwareInterface>
    </joint>
    <actuator name="motor_knee_pitch_1">
      <hardwareInterface>hardware_interface/EffortJointInterface</hardwareInterface>
      <machanicalReduction>1</machanicalReduction>
    </actuator>
    <robotNamespace>/centauro</robotNamespace>
  </transmission>
  <transmission name="t_ankle_pitch_1">
    <type> transmission_interface/SimpleTransmission</type>
    <joint name="ankle_pitch_1">
      <hardwareInterface>hardware_interface/EffortJointInterface</hardwareInterface>
    </joint>
    <actuator name="motor_ankle_pitch_1">
      <hardwareInterface>hardware_interface/EffortJointInterface</hardwareInterface>
      <machanicalReduction>1</machanicalReduction>
    </actuator>
    <robotNamespace>/centauro</robotNamespace>
  </transmission>
  <transmission name="t_ankle_yaw_1">
    <type> transmission_interface/SimpleTransmission</type>
    <joint name="ankle_yaw_1">
      <hardwareInterface>hardware_interface/EffortJointInterface</hardwareInterface>
    </joint>
    <actuator name="motor_ankle_yaw_1">
      <hardwareInterface>hardware_interface/EffortJointInterface</hardwareInterface>
      <machanicalReduction>1</machanicalReduction>
    </actuator>
    <robotNamespace>/centauro</robotNamespace>
  </transmission>
  <transmission name="t_j_wheel_1">
    <type> transmission_interface/SimpleTransmission</type>
    <joint name="j_wheel_1">
      <hardwareInterface>hardware_interface/EffortJointInterface</hardwareInterface>
    </joint>
    <actuator name="motor_j_wheel_1">
      <hardwareInterface>hardware_interface/EffortJointInterface</hardwareInterface>
      <machanicalReduction>1</machanicalReduction>
    </actuator>
    <robotNamespace>/centauro</robotNamespace>
  </transmission>
  <!-- /actuators -->
  <link name="hip1_2">
    <inertial>
      <origin xyz="0.010214199 0.018348359 0.038090987"/>
      <mass value="1.9194403"/>
      <!-- org: 2 -->
      <inertia ixx="0.0047439572" ixy="-0.0005747047" ixz="-0.0003784138" iyy="0.0040551878" iyz="-0.0007407508" izz="0.0034146219"/>
      <!-- <inertia ixx="0.01" ixy="0.01" ixz="0.01" iyy="0.01" iyz="0.01" izz="0.01"/> -->
    </inertial>
    <visual>
      <origin rpy="0.0 0.0 0.0" xyz="0.0 0.0 0.0"/>
      <geometry>
        <mesh filename="package://centauro/centauro_urdf/meshes/hip-yaw.stl" scale="0.001 0.001 0.001"/>
      </geometry>
      <material name="dark_grey"/>
    </visual>
    <collision>
      <origin rpy="0.0 0.0 0.0" xyz="0.0 0.0 0.0"/>
      <geometry>
        <mesh filename="package://centauro/centauro_urdf/meshes/convex_hull/hip-yaw.stl" scale="0.001 0.001 0.001"/>
      </geometry>
    </collision>
  </link>
  <link name="hip2_2">
    <inertial>
      <origin xyz="2.57966e-05 0.1810266 0.085669756"/>
      <mass value="2.7264471"/>
      <!-- org: 4.5 -->
      <inertia ixx="0.04851869" ixy="-4.11894e-05" ixz="-1.68778e-05" iyy="0.004242055" iyz="0.0032243188" izz="0.04825583"/>
      <!-- <inertia ixx="0.01" ixy="0.01" ixz="0.01" iyy="0.01" iyz="0.01" izz="0.01"/> -->
    </inertial>
    <visual>
      <origin rpy="0.0 0.0 0.0" xyz="0.0 0.0 0.0"/>
      <geometry>
        <mesh filename="package://centauro/centauro_urdf/meshes/hip-pitch.stl" scale="0.001 0.001 0.001"/>
      </geometry>
    </visual>
    <collision>
      <origin rpy="0.0 0.0 0.0" xyz="0.0 0.0 0.0"/>
      <geometry>
        <mesh filename="package://centauro/centauro_urdf/meshes/convex_hull/hip-pitch.stl" scale="0.001 0.001 0.001"/>
      </geometry>
    </collision>
  </link>
  <link name="knee_2">
    <inertial>
      <origin xyz="0.10881667 0.0001089081 -0.022638996"/>
      <mass value="1.9356754"/>
      <!-- org: 3.5, foot un modeled-->
      <inertia ixx="0.0030534242" ixy="-4.22079e-05" ixz="0.0013679297" iyy="0.019603321" iyz="6.9941e-06" izz="0.019849817"/>
      <!--	<inertia ixx="0.01" ixy="0.01" ixz="0.01" iyy="0.01" iyz="0.01" izz="0.01"/>  -->
    </inertial>
    <visual>
      <origin rpy="0.0 0.0 0.0" xyz="0.0 0.0 0.0"/>
      <geometry>
        <mesh filename="package://centauro/centauro_urdf/meshes/knee.stl" scale="0.001 0.001 0.001"/>
      </geometry>
      <material name="dark_grey"/>
    </visual>
    <collision>
      <origin rpy="0.0 0.0 0.0" xyz="0.0 0.0 0.0"/>
      <geometry>
        <mesh filename="package://centauro/centauro_urdf/meshes/convex_hull/knee.stl" scale="0.001 0.001 0.001"/>
      </geometry>
    </collision>
  </link>
  <link name="ankle1_2">
    <inertial>
      <origin xyz="0.032137318 9.73572e-05 -0.0044222206"/>
      <mass value="1.2380744"/>
      <!-- org: 3.5, foot un modeled-->
      <inertia ixx="0.0015610452" ixy="3.30597e-05" ixz="-0.0001314174" iyy="0.0037423211" iyz="-2.12589e-05" izz="0.0038312442"/>
      <!--	<inertia ixx="0.01" ixy="0.01" ixz="0.01" iyy="0.01" iyz="0.01" izz="0.01"/>  -->
    </inertial>
    <visual>
      <origin rpy="0.0 0.0 0.0" xyz="0.0 0.0 0.0"/>
      <geometry>
        <mesh filename="package://centauro/centauro_urdf/meshes/ankle-pitch.stl" scale="0.001 0.001 0.001"/>
      </geometry>
    </visual>
    <collision>
      <origin rpy="0.0 0.0 0.0" xyz="0.0 0.0 0.0"/>
      <geometry>
        <mesh filename="package://centauro/centauro_urdf/meshes/convex_hull/ankle-pitch.stl" scale="0.001 0.001 0.001"/>
      </geometry>
    </collision>
  </link>
  <link name="ankle2_2">
    <inertial>
      <origin xyz="0.0004435803 0.0004389911 0.19392092"/>
      <mass value="1.1565926"/>
      <!-- org: 3.5, foot un modeled-->
      <inertia ixx="0.0049019475" ixy="4.3032e-06" ixz="3.46491e-05" iyy="0.0038724162" iyz="1.7099e-05" izz="0.0021783198"/>
    </inertial>
    <visual>
      <origin rpy="0.0 0.0 0.0" xyz="0.0 0.0 0.0"/>
      <geometry>
        <mesh filename="package://centauro/centauro_urdf/meshes/ankle-yaw.stl" scale="0.001 0.001 0.001"/>
      </geometry>
      <material name="dark_grey"/>
    </visual>
    <collision>
      <origin rpy="0.0 0.0 0.0" xyz="0.0 0.0 0.0"/>
      <geometry>
        <mesh filename="package://centauro/centauro_urdf/meshes/convex_hull/ankle-yaw.stl" scale="0.001 0.001 0.001"/>
      </geometry>
    </collision>
  </link>
  <link name="wheel_2">
    <inertial>
      <origin xyz="0.0 0.0 0.0024271906"/>
      <mass value="1.7289003"/>
      <!-- org: 3.5, foot un modeled-->
      <inertia ixx="0.0046864297" ixy="0.0" ixz="0.0" iyy="0.0046713489" iyz="0.0" izz="0.0053126029"/>
    </inertial>
    <visual>
      <origin rpy="0.0 0.0 0.0" xyz="0.0 0.0 0.0"/>
      <geometry>
        <mesh filename="package://centauro/centauro_urdf/meshes/wheel.stl" scale="0.001 0.001 0.001"/>
      </geometry>
      <material name="black"/>
    </visual>
    <collision>
      <origin rpy="0.0 0.0 0.0" xyz="0.0 0.0 0.0"/>
      <geometry>
        <mesh filename="package://centauro/centauro_urdf/meshes/convex_hull/wheel.stl" scale="0.001 0.001 0.001"/>
      </geometry>
    </collision>
  </link>
  <joint name="hip_yaw_2" type="revolute">
    <parent link="pelvis"/>
    <child link="hip1_2"/>
    <origin rpy="3.14159265359 0.0 -0.461416123228" xyz="0.25 -0.125 -0.0566"/>
    <axis xyz="0 0 1"/>
    <!--xacro:if value="${origin_y*origin_x == -1}">
        <limit lower="-1.13446401" upper="2.70526034" effort="304" velocity="8.8"/> 
        </xacro:if>
        <xacro:if value="${origin_y*origin_x == 1}">
        <limit lower="-2.70526034" upper="1.13446401" effort="304" velocity="8.8"/> 
        </xacro:if-->
    <limit effort="304" lower="-3" upper="3" velocity="8.8"/>
  </joint>
  <joint name="hip_pitch_2" type="revolute">
    <parent link="hip1_2"/>
    <child link="hip2_2"/>
    <origin rpy="1.57079632679 0.0 2.68017653036" xyz="0.0 0.0 0.0625"/>
    <axis xyz="0 0 1"/>
    <!--limit lower="-2.09439510" upper="2.09439510" effort="304" velocity="8.8"/-->
    <limit effort="304" lower="-3" upper="3" velocity="8.8"/>
  </joint>
  <joint name="knee_pitch_2" type="revolute">
    <parent link="hip2_2"/>
    <child link="knee_2"/>
    <origin rpy="3.14159265359 0.0 1.57079632679" xyz="0.0 0.3 -0.0036"/>
    <axis xyz="0 0 1"/>
    <!--limit  lower="-2.61799388" upper="2.61799388" effort="304" velocity="8.8"/-->
    <limit effort="304" lower="-3" upper="3" velocity="8.8"/>
  </joint>
  <joint name="ankle_pitch_2" type="revolute">
    <parent link="knee_2"/>
    <child link="ankle1_2"/>
    <origin rpy="3.14159265359 0.0 0.0" xyz="0.2 0.0 -0.10015"/>
    <axis xyz="0 0 1"/>
    <!--limit  lower="-2.61799388" upper="2.61799388" effort="147" velocity="8.1"/-->
    <limit effort="304" lower="-3" upper="3" velocity="8.8"/>
  </joint>
  <joint name="ankle_yaw_2" type="revolute">
    <parent link="ankle1_2"/>
    <child link="ankle2_2"/>
    <origin rpy="1.57079632679 0.0 1.57079632679" xyz="0.0 0.0 0.0"/>
    <axis xyz="0 0 1"/>
    <limit effort="35" lower="-2.79252680" upper="2.79252680" velocity="20.0"/>
    <!--limit lower="-3" upper="3" effort="304" velocity="8.8"/-->
  </joint>
  <joint name="j_wheel_2" type="continuous">
    <parent link="ankle2_2"/>
    <child link="wheel_2"/>
    <origin rpy="1.57079632679 0.0 3.14159265359" xyz="0.0 0.00085 0.23735"/>
    <axis xyz="0 0 1"/>
    <limit effort="35" velocity="20.0"/>
    <dynamics damping="1.0" friction="10"/>
  </joint>
  <transmission name="t_hip_yaw_2">
    <type> transmission_interface/SimpleTransmission</type>
    <joint name="hip_yaw_2">
      <hardwareInterface>hardware_interface/EffortJointInterface</hardwareInterface>
    </joint>
    <actuator name="motor_hip_yaw_2">
      <hardwareInterface>hardware_interface/EffortJointInterface</hardwareInterface>
      <machanicalReduction>1</machanicalReduction>
    </actuator>
    <robotNamespace>/centauro</robotNamespace>
  </transmission>
  <transmission name="t_hip_pitch_2">
    <type> transmission_interface/SimpleTransmission</type>
    <joint name="hip_pitch_2">
      <hardwareInterface>hardware_interface/EffortJointInterface</hardwareInterface>
    </joint>
    <actuator name="motor_hip_pitch_2">
      <hardwareInterface>hardware_interface/EffortJointInterface</hardwareInterface>
      <machanicalReduction>1</machanicalReduction>
    </actuator>
    <robotNamespace>/centauro</robotNamespace>
  </transmission>
  <transmission name="t_knee_pitch_2">
    <type> transmission_interface/SimpleTransmission</type>
    <joint name="knee_pitch_2">
      <hardwareInterface>hardware_interface/EffortJointInterface</hardwareInterface>
    </joint>
    <actuator name="motor_knee_pitch_2">
      <hardwareInterface>hardware_interface/EffortJointInterface</hardwareInterface>
      <machanicalReduction>1</machanicalReduction>
    </actuator>
    <robotNamespace>/centauro</robotNamespace>
  </transmission>
  <transmission name="t_ankle_pitch_2">
    <type> transmission_interface/SimpleTransmission</type>
    <joint name="ankle_pitch_2">
      <hardwareInterface>hardware_interface/EffortJointInterface</hardwareInterface>
    </joint>
    <actuator name="motor_ankle_pitch_2">
      <hardwareInterface>hardware_interface/EffortJointInterface</hardwareInterface>
      <machanicalReduction>1</machanicalReduction>
    </actuator>
    <robotNamespace>/centauro</robotNamespace>
  </transmission>
  <transmission name="t_ankle_yaw_2">
    <type> transmission_interface/SimpleTransmission</type>
    <joint name="ankle_yaw_2">
      <hardwareInterface>hardware_interface/EffortJointInterface</hardwareInterface>
    </joint>
    <actuator name="motor_ankle_yaw_2">
      <hardwareInterface>hardware_interface/EffortJointInterface</hardwareInterface>
      <machanicalReduction>1</machanicalReduction>
    </actuator>
    <robotNamespace>/centauro</robotNamespace>
  </transmission>
  <transmission name="t_j_wheel_2">
    <type> transmission_interface/SimpleTransmission</type>
    <joint name="j_wheel_2">
      <hardwareInterface>hardware_interface/EffortJointInterface</hardwareInterface>
    </joint>
    <actuator name="motor_j_wheel_2">
      <hardwareInterface>hardware_interface/EffortJointInterface</hardwareInterface>
      <machanicalReduction>1</machanicalReduction>
    </actuator>
    <robotNamespace>/centauro</robotNamespace>
  </transmission>
  <!-- /actuators -->
  <link name="hip1_3">
    <inertial>
      <origin xyz="0.010214199 0.018348359 0.038090987"/>
      <mass value="1.9194403"/>
      <!-- org: 2 -->
      <inertia ixx="0.0047439572" ixy="-0.0005747047" ixz="-0.0003784138" iyy="0.0040551878" iyz="-0.0007407508" izz="0.0034146219"/>
      <!-- <inertia ixx="0.01" ixy="0.01" ixz="0.01" iyy="0.01" iyz="0.01" izz="0.01"/> -->
    </inertial>
    <visual>
      <origin rpy="0.0 0.0 0.0" xyz="0.0 0.0 0.0"/>
      <geometry>
        <mesh filename="package://centauro/centauro_urdf/meshes/hip-yaw.stl" scale="0.001 0.001 0.001"/>
      </geometry>
      <material name="dark_grey"/>
    </visual>
    <collision>
      <origin rpy="0.0 0.0 0.0" xyz="0.0 0.0 0.0"/>
      <geometry>
        <mesh filename="package://centauro/centauro_urdf/meshes/convex_hull/hip-yaw.stl" scale="0.001 0.001 0.001"/>
      </geometry>
    </collision>
  </link>
  <link name="hip2_3">
    <inertial>
      <origin xyz="2.57966e-05 0.1810266 0.085669756"/>
      <mass value="2.7264471"/>
      <!-- org: 4.5 -->
      <inertia ixx="0.04851869" ixy="-4.11894e-05" ixz="-1.68778e-05" iyy="0.004242055" iyz="0.0032243188" izz="0.04825583"/>
      <!-- <inertia ixx="0.01" ixy="0.01" ixz="0.01" iyy="0.01" iyz="0.01" izz="0.01"/> -->
    </inertial>
    <visual>
      <origin rpy="0.0 0.0 0.0" xyz="0.0 0.0 0.0"/>
      <geometry>
        <mesh filename="package://centauro/centauro_urdf/meshes/hip-pitch.stl" scale="0.001 0.001 0.001"/>
      </geometry>
    </visual>
    <collision>
      <origin rpy="0.0 0.0 0.0" xyz="0.0 0.0 0.0"/>
      <geometry>
        <mesh filename="package://centauro/centauro_urdf/meshes/convex_hull/hip-pitch.stl" scale="0.001 0.001 0.001"/>
      </geometry>
    </collision>
  </link>
  <link name="knee_3">
    <inertial>
      <origin xyz="0.10881667 0.0001089081 -0.022638996"/>
      <mass value="1.9356754"/>
      <!-- org: 3.5, foot un modeled-->
      <inertia ixx="0.0030534242" ixy="-4.22079e-05" ixz="0.0013679297" iyy="0.019603321" iyz="6.9941e-06" izz="0.019849817"/>
      <!--	<inertia ixx="0.01" ixy="0.01" ixz="0.01" iyy="0.01" iyz="0.01" izz="0.01"/>  -->
    </inertial>
    <visual>
      <origin rpy="0.0 0.0 0.0" xyz="0.0 0.0 0.0"/>
      <geometry>
        <mesh filename="package://centauro/centauro_urdf/meshes/knee.stl" scale="0.001 0.001 0.001"/>
      </geometry>
      <material name="dark_grey"/>
    </visual>
    <collision>
      <origin rpy="0.0 0.0 0.0" xyz="0.0 0.0 0.0"/>
      <geometry>
        <mesh filename="package://centauro/centauro_urdf/meshes/convex_hull/knee.stl" scale="0.001 0.001 0.001"/>
      </geometry>
    </collision>
  </link>
  <link name="ankle1_3">
    <inertial>
      <origin xyz="0.032137318 9.73572e-05 -0.0044222206"/>
      <mass value="1.2380744"/>
      <!-- org: 3.5, foot un modeled-->
      <inertia ixx="0.0015610452" ixy="3.30597e-05" ixz="-0.0001314174" iyy="0.0037423211" iyz="-2.12589e-05" izz="0.0038312442"/>
      <!--	<inertia ixx="0.01" ixy="0.01" ixz="0.01" iyy="0.01" iyz="0.01" izz="0.01"/>  -->
    </inertial>
    <visual>
      <origin rpy="0.0 0.0 0.0" xyz="0.0 0.0 0.0"/>
      <geometry>
        <mesh filename="package://centauro/centauro_urdf/meshes/ankle-pitch.stl" scale="0.001 0.001 0.001"/>
      </geometry>
    </visual>
    <collision>
      <origin rpy="0.0 0.0 0.0" xyz="0.0 0.0 0.0"/>
      <geometry>
        <mesh filename="package://centauro/centauro_urdf/meshes/convex_hull/ankle-pitch.stl" scale="0.001 0.001 0.001"/>
      </geometry>
    </collision>
  </link>
  <link name="ankle2_3">
    <inertial>
      <origin xyz="0.0004435803 0.0004389911 0.19392092"/>
      <mass value="1.1565926"/>
      <!-- org: 3.5, foot un modeled-->
      <inertia ixx="0.0049019475" ixy="4.3032e-06" ixz="3.46491e-05" iyy="0.0038724162" iyz="1.7099e-05" izz="0.0021783198"/>
    </inertial>
    <visual>
      <origin rpy="0.0 0.0 0.0" xyz="0.0 0.0 0.0"/>
      <geometry>
        <mesh filename="package://centauro/centauro_urdf/meshes/ankle-yaw.stl" scale="0.001 0.001 0.001"/>
      </geometry>
      <material name="dark_grey"/>
    </visual>
    <collision>
      <origin rpy="0.0 0.0 0.0" xyz="0.0 0.0 0.0"/>
      <geometry>
        <mesh filename="package://centauro/centauro_urdf/meshes/convex_hull/ankle-yaw.stl" scale="0.001 0.001 0.001"/>
      </geometry>
    </collision>
  </link>
  <link name="wheel_3">
    <inertial>
      <origin xyz="0.0 0.0 0.0024271906"/>
      <mass value="1.7289003"/>
      <!-- org: 3.5, foot un modeled-->
      <inertia ixx="0.0046864297" ixy="0.0" ixz="0.0" iyy="0.0046713489" iyz="0.0" izz="0.0053126029"/>
    </inertial>
    <visual>
      <origin rpy="0.0 0.0 0.0" xyz="0.0 0.0 0.0"/>
      <geometry>
        <mesh filename="package://centauro/centauro_urdf/meshes/wheel.stl" scale="0.001 0.001 0.001"/>
      </geometry>
      <material name="black"/>
    </visual>
    <collision>
      <origin rpy="0.0 0.0 0.0" xyz="0.0 0.0 0.0"/>
      <geometry>
        <mesh filename="package://centauro/centauro_urdf/meshes/convex_hull/wheel.stl" scale="0.001 0.001 0.001"/>
      </geometry>
    </collision>
  </link>
  <joint name="hip_yaw_3" type="revolute">
    <parent link="pelvis"/>
    <child link="hip1_3"/>
    <origin rpy="3.14159265359 0.0 2.68017653036" xyz="-0.25 0.125 -0.0566"/>
    <axis xyz="0 0 1"/>
    <!--xacro:if value="${origin_y*origin_x == -1}">
        <limit lower="-1.13446401" upper="2.70526034" effort="304" velocity="8.8"/> 
        </xacro:if>
        <xacro:if value="${origin_y*origin_x == 1}">
        <limit lower="-2.70526034" upper="1.13446401" effort="304" velocity="8.8"/> 
        </xacro:if-->
    <limit effort="304" lower="-3" upper="3" velocity="8.8"/>
  </joint>
  <joint name="hip_pitch_3" type="revolute">
    <parent link="hip1_3"/>
    <child link="hip2_3"/>
    <origin rpy="1.57079632679 0.0 2.68017653036" xyz="0.0 0.0 0.0625"/>
    <axis xyz="0 0 1"/>
    <!--limit lower="-2.09439510" upper="2.09439510" effort="304" velocity="8.8"/-->
    <limit effort="304" lower="-3" upper="3" velocity="8.8"/>
  </joint>
  <joint name="knee_pitch_3" type="revolute">
    <parent link="hip2_3"/>
    <child link="knee_3"/>
    <origin rpy="3.14159265359 0.0 1.57079632679" xyz="0.0 0.3 -0.0036"/>
    <axis xyz="0 0 1"/>
    <!--limit  lower="-2.61799388" upper="2.61799388" effort="304" velocity="8.8"/-->
    <limit effort="304" lower="-3" upper="3" velocity="8.8"/>
  </joint>
  <joint name="ankle_pitch_3" type="revolute">
    <parent link="knee_3"/>
    <child link="ankle1_3"/>
    <origin rpy="3.14159265359 0.0 0.0" xyz="0.2 0.0 -0.10015"/>
    <axis xyz="0 0 1"/>
    <!--limit  lower="-2.61799388" upper="2.61799388" effort="147" velocity="8.1"/-->
    <limit effort="304" lower="-3" upper="3" velocity="8.8"/>
  </joint>
  <joint name="ankle_yaw_3" type="revolute">
    <parent link="ankle1_3"/>
    <child link="ankle2_3"/>
    <origin rpy="1.57079632679 0.0 1.57079632679" xyz="0.0 0.0 0.0"/>
    <axis xyz="0 0 1"/>
    <limit effort="35" lower="-2.79252680" upper="2.79252680" velocity="20.0"/>
    <!--limit lower="-3" upper="3" effort="304" velocity="8.8"/-->
  </joint>
  <joint name="j_wheel_3" type="continuous">
    <parent link="ankle2_3"/>
    <child link="wheel_3"/>
    <origin rpy="1.57079632679 0.0 3.14159265359" xyz="0.0 0.00085 0.23735"/>
    <axis xyz="0 0 1"/>
    <limit effort="35" velocity="20.0"/>
    <dynamics damping="1.0" friction="10"/>
  </joint>
  <transmission name="t_hip_yaw_3">
    <type> transmission_interface/SimpleTransmission</type>
    <joint name="hip_yaw_3">
      <hardwareInterface>hardware_interface/EffortJointInterface</hardwareInterface>
    </joint>
    <actuator name="motor_hip_yaw_3">
      <hardwareInterface>hardware_interface/EffortJointInterface</hardwareInterface>
      <machanicalReduction>1</machanicalReduction>
    </actuator>
    <robotNamespace>/centauro</robotNamespace>
  </transmission>
  <transmission name="t_hip_pitch_3">
    <type> transmission_interface/SimpleTransmission</type>
    <joint name="hip_pitch_3">
      <hardwareInterface>hardware_interface/EffortJointInterface</hardwareInterface>
    </joint>
    <actuator name="motor_hip_pitch_3">
      <hardwareInterface>hardware_interface/EffortJointInterface</hardwareInterface>
      <machanicalReduction>1</machanicalReduction>
    </actuator>
    <robotNamespace>/centauro</robotNamespace>
  </transmission>
  <transmission name="t_knee_pitch_3">
    <type> transmission_interface/SimpleTransmission</type>
    <joint name="knee_pitch_3">
      <hardwareInterface>hardware_interface/EffortJointInterface</hardwareInterface>
    </joint>
    <actuator name="motor_knee_pitch_3">
      <hardwareInterface>hardware_interface/EffortJointInterface</hardwareInterface>
      <machanicalReduction>1</machanicalReduction>
    </actuator>
    <robotNamespace>/centauro</robotNamespace>
  </transmission>
  <transmission name="t_ankle_pitch_3">
    <type> transmission_interface/SimpleTransmission</type>
    <joint name="ankle_pitch_3">
      <hardwareInterface>hardware_interface/EffortJointInterface</hardwareInterface>
    </joint>
    <actuator name="motor_ankle_pitch_3">
      <hardwareInterface>hardware_interface/EffortJointInterface</hardwareInterface>
      <machanicalReduction>1</machanicalReduction>
    </actuator>
    <robotNamespace>/centauro</robotNamespace>
  </transmission>
  <transmission name="t_ankle_yaw_3">
    <type> transmission_interface/SimpleTransmission</type>
    <joint name="ankle_yaw_3">
      <hardwareInterface>hardware_interface/EffortJointInterface</hardwareInterface>
    </joint>
    <actuator name="motor_ankle_yaw_3">
      <hardwareInterface>hardware_interface/EffortJointInterface</hardwareInterface>
      <machanicalReduction>1</machanicalReduction>
    </actuator>
    <robotNamespace>/centauro</robotNamespace>
  </transmission>
  <transmission name="t_j_wheel_3">
    <type> transmission_interface/SimpleTransmission</type>
    <joint name="j_wheel_3">
      <hardwareInterface>hardware_interface/EffortJointInterface</hardwareInterface>
    </joint>
    <actuator name="motor_j_wheel_3">
      <hardwareInterface>hardware_interface/EffortJointInterface</hardwareInterface>
      <machanicalReduction>1</machanicalReduction>
    </actuator>
    <robotNamespace>/centauro</robotNamespace>
  </transmission>
  <!-- /actuators -->
  <link name="hip1_4">
    <inertial>
      <origin xyz="0.010214199 -0.018348359 0.038090987"/>
      <mass value="1.9194403"/>
      <!-- org: 2 -->
      <inertia ixx="0.0047439572" ixy="0.0005747047" ixz="-0.0003784138" iyy="0.0040551878" iyz="0.0007407508" izz="0.0034146219"/>
      <!-- <inertia ixx="0.01" ixy="0.01" ixz="0.01" iyy="0.01" iyz="0.01" izz="0.01"/> -->
    </inertial>
    <visual>
      <origin rpy="0.0 0.0 4.06442490005" xyz="0.0 0.0 0.0"/>
      <geometry>
        <mesh filename="package://centauro/centauro_urdf/meshes/hip-yaw.stl" scale="0.001 0.001 0.001"/>
      </geometry>
      <material name="dark_grey"/>
    </visual>
    <collision>
      <origin rpy="0.0 0.0 4.06442490005" xyz="0.0 0.0 0.0"/>
      <geometry>
        <mesh filename="package://centauro/centauro_urdf/meshes/convex_hull/hip-yaw.stl" scale="0.001 0.001 0.001"/>
      </geometry>
    </collision>
  </link>
  <link name="hip2_4">
    <inertial>
      <origin xyz="2.57966e-05 0.1810266 0.085669756"/>
      <mass value="2.7264471"/>
      <!-- org: 4.5 -->
      <inertia ixx="0.04851869" ixy="-4.11894e-05" ixz="-1.68778e-05" iyy="0.004242055" iyz="0.0032243188" izz="0.04825583"/>
      <!-- <inertia ixx="0.01" ixy="0.01" ixz="0.01" iyy="0.01" iyz="0.01" izz="0.01"/> -->
    </inertial>
    <visual>
      <origin rpy="0.0 0.0 0.0" xyz="0.0 0.0 0.0"/>
      <geometry>
        <mesh filename="package://centauro/centauro_urdf/meshes/hip-pitch.stl" scale="0.001 0.001 0.001"/>
      </geometry>
    </visual>
    <collision>
      <origin rpy="0.0 0.0 0.0" xyz="0.0 0.0 0.0"/>
      <geometry>
        <mesh filename="package://centauro/centauro_urdf/meshes/convex_hull/hip-pitch.stl" scale="0.001 0.001 0.001"/>
      </geometry>
    </collision>
  </link>
  <link name="knee_4">
    <inertial>
      <origin xyz="0.10881667 0.0001089081 -0.022638996"/>
      <mass value="1.9356754"/>
      <!-- org: 3.5, foot un modeled-->
      <inertia ixx="0.0030534242" ixy="-4.22079e-05" ixz="0.0013679297" iyy="0.019603321" iyz="6.9941e-06" izz="0.019849817"/>
      <!--	<inertia ixx="0.01" ixy="0.01" ixz="0.01" iyy="0.01" iyz="0.01" izz="0.01"/>  -->
    </inertial>
    <visual>
      <origin rpy="0.0 0.0 0.0" xyz="0.0 0.0 0.0"/>
      <geometry>
        <mesh filename="package://centauro/centauro_urdf/meshes/knee.stl" scale="0.001 0.001 0.001"/>
      </geometry>
      <material name="dark_grey"/>
    </visual>
    <collision>
      <origin rpy="0.0 0.0 0.0" xyz="0.0 0.0 0.0"/>
      <geometry>
        <mesh filename="package://centauro/centauro_urdf/meshes/convex_hull/knee.stl" scale="0.001 0.001 0.001"/>
      </geometry>
    </collision>
  </link>
  <link name="ankle1_4">
    <inertial>
      <origin xyz="0.032137318 9.73572e-05 -0.0044222206"/>
      <mass value="1.2380744"/>
      <!-- org: 3.5, foot un modeled-->
      <inertia ixx="0.0015610452" ixy="3.30597e-05" ixz="-0.0001314174" iyy="0.0037423211" iyz="-2.12589e-05" izz="0.0038312442"/>
      <!--	<inertia ixx="0.01" ixy="0.01" ixz="0.01" iyy="0.01" iyz="0.01" izz="0.01"/>  -->
    </inertial>
    <visual>
      <origin rpy="0.0 0.0 0.0" xyz="0.0 0.0 0.0"/>
      <geometry>
        <mesh filename="package://centauro/centauro_urdf/meshes/ankle-pitch.stl" scale="0.001 0.001 0.001"/>
      </geometry>
    </visual>
    <collision>
      <origin rpy="0.0 0.0 0.0" xyz="0.0 0.0 0.0"/>
      <geometry>
        <mesh filename="package://centauro/centauro_urdf/meshes/convex_hull/ankle-pitch.stl" scale="0.001 0.001 0.001"/>
      </geometry>
    </collision>
  </link>
  <link name="ankle2_4">
    <inertial>
      <origin xyz="0.0004435803 0.0004389911 0.19392092"/>
      <mass value="1.1565926"/>
      <!-- org: 3.5, foot un modeled-->
      <inertia ixx="0.0049019475" ixy="4.3032e-06" ixz="3.46491e-05" iyy="0.0038724162" iyz="1.7099e-05" izz="0.0021783198"/>
    </inertial>
    <visual>
      <origin rpy="0.0 0.0 0.0" xyz="0.0 0.0 0.0"/>
      <geometry>
        <mesh filename="package://centauro/centauro_urdf/meshes/ankle-yaw.stl" scale="0.001 0.001 0.001"/>
      </geometry>
      <material name="dark_grey"/>
    </visual>
    <collision>
      <origin rpy="0.0 0.0 0.0" xyz="0.0 0.0 0.0"/>
      <geometry>
        <mesh filename="package://centauro/centauro_urdf/meshes/convex_hull/ankle-yaw.stl" scale="0.001 0.001 0.001"/>
      </geometry>
    </collision>
  </link>
  <link name="wheel_4">
    <inertial>
      <origin xyz="0.0 0.0 0.0024271906"/>
      <mass value="1.7289003"/>
      <!-- org: 3.5, foot un modeled-->
      <inertia ixx="0.0046864297" ixy="0.0" ixz="0.0" iyy="0.0046713489" iyz="0.0" izz="0.0053126029"/>
    </inertial>
    <visual>
      <origin rpy="0.0 0.0 0.0" xyz="0.0 0.0 0.0"/>
      <geometry>
        <mesh filename="package://centauro/centauro_urdf/meshes/wheel.stl" scale="0.001 0.001 0.001"/>
      </geometry>
      <material name="black"/>
    </visual>
    <collision>
      <origin rpy="0.0 0.0 0.0" xyz="0.0 0.0 0.0"/>
      <geometry>
        <mesh filename="package://centauro/centauro_urdf/meshes/convex_hull/wheel.stl" scale="0.001 0.001 0.001"/>
      </geometry>
    </collision>
  </link>
  <joint name="hip_yaw_4" type="revolute">
    <parent link="pelvis"/>
    <child link="hip1_4"/>
    <origin rpy="3.14159265359 0.0 3.60300877682" xyz="-0.25 -0.125 -0.0566"/>
    <axis xyz="0 0 1"/>
    <!--xacro:if value="${origin_y*origin_x == -1}">
        <limit lower="-1.13446401" upper="2.70526034" effort="304" velocity="8.8"/> 
        </xacro:if>
        <xacro:if value="${origin_y*origin_x == 1}">
        <limit lower="-2.70526034" upper="1.13446401" effort="304" velocity="8.8"/> 
        </xacro:if-->
    <limit effort="304" lower="-3" upper="3" velocity="8.8"/>
  </joint>
  <joint name="hip_pitch_4" type="revolute">
    <parent link="hip1_4"/>
    <child link="hip2_4"/>
    <origin rpy="1.57079632679 0.0 0.46141612323" xyz="0.0 0.0 0.0625"/>
    <axis xyz="0 0 1"/>
    <!--limit lower="-2.09439510" upper="2.09439510" effort="304" velocity="8.8"/-->
    <limit effort="304" lower="-3" upper="3" velocity="8.8"/>
  </joint>
  <joint name="knee_pitch_4" type="revolute">
    <parent link="hip2_4"/>
    <child link="knee_4"/>
    <origin rpy="3.14159265359 0.0 1.57079632679" xyz="0.0 0.3 -0.0036"/>
    <axis xyz="0 0 1"/>
    <!--limit  lower="-2.61799388" upper="2.61799388" effort="304" velocity="8.8"/-->
    <limit effort="304" lower="-3" upper="3" velocity="8.8"/>
  </joint>
  <joint name="ankle_pitch_4" type="revolute">
    <parent link="knee_4"/>
    <child link="ankle1_4"/>
    <origin rpy="3.14159265359 0.0 0.0" xyz="0.2 0.0 -0.10015"/>
    <axis xyz="0 0 1"/>
    <!--limit  lower="-2.61799388" upper="2.61799388" effort="147" velocity="8.1"/-->
    <limit effort="304" lower="-3" upper="3" velocity="8.8"/>
  </joint>
  <joint name="ankle_yaw_4" type="revolute">
    <parent link="ankle1_4"/>
    <child link="ankle2_4"/>
    <origin rpy="1.57079632679 0.0 1.57079632679" xyz="0.0 0.0 0.0"/>
    <axis xyz="0 0 1"/>
    <limit effort="35" lower="-2.79252680" upper="2.79252680" velocity="20.0"/>
    <!--limit lower="-3" upper="3" effort="304" velocity="8.8"/-->
  </joint>
  <joint name="j_wheel_4" type="continuous">
    <parent link="ankle2_4"/>
    <child link="wheel_4"/>
    <origin rpy="1.57079632679 0.0 3.14159265359" xyz="0.0 0.00085 0.23735"/>
    <axis xyz="0 0 1"/>
    <limit effort="35" velocity="20.0"/>
    <dynamics damping="1.0" friction="10"/>
  </joint>
  <transmission name="t_hip_yaw_4">
    <type> transmission_interface/SimpleTransmission</type>
    <joint name="hip_yaw_4">
      <hardwareInterface>hardware_interface/EffortJointInterface</hardwareInterface>
    </joint>
    <actuator name="motor_hip_yaw_4">
      <hardwareInterface>hardware_interface/EffortJointInterface</hardwareInterface>
      <machanicalReduction>1</machanicalReduction>
    </actuator>
    <robotNamespace>/centauro</robotNamespace>
  </transmission>
  <transmission name="t_hip_pitch_4">
    <type> transmission_interface/SimpleTransmission</type>
    <joint name="hip_pitch_4">
      <hardwareInterface>hardware_interface/EffortJointInterface</hardwareInterface>
    </joint>
    <actuator name="motor_hip_pitch_4">
      <hardwareInterface>hardware_interface/EffortJointInterface</hardwareInterface>
      <machanicalReduction>1</machanicalReduction>
    </actuator>
    <robotNamespace>/centauro</robotNamespace>
  </transmission>
  <transmission name="t_knee_pitch_4">
    <type> transmission_interface/SimpleTransmission</type>
    <joint name="knee_pitch_4">
      <hardwareInterface>hardware_interface/EffortJointInterface</hardwareInterface>
    </joint>
    <actuator name="motor_knee_pitch_4">
      <hardwareInterface>hardware_interface/EffortJointInterface</hardwareInterface>
      <machanicalReduction>1</machanicalReduction>
    </actuator>
    <robotNamespace>/centauro</robotNamespace>
  </transmission>
  <transmission name="t_ankle_pitch_4">
    <type> transmission_interface/SimpleTransmission</type>
    <joint name="ankle_pitch_4">
      <hardwareInterface>hardware_interface/EffortJointInterface</hardwareInterface>
    </joint>
    <actuator name="motor_ankle_pitch_4">
      <hardwareInterface>hardware_interface/EffortJointInterface</hardwareInterface>
      <machanicalReduction>1</machanicalReduction>
    </actuator>
    <robotNamespace>/centauro</robotNamespace>
  </transmission>
  <transmission name="t_ankle_yaw_4">
    <type> transmission_interface/SimpleTransmission</type>
    <joint name="ankle_yaw_4">
      <hardwareInterface>hardware_interface/EffortJointInterface</hardwareInterface>
    </joint>
    <actuator name="motor_ankle_yaw_4">
      <hardwareInterface>hardware_interface/EffortJointInterface</hardwareInterface>
      <machanicalReduction>1</machanicalReduction>
    </actuator>
    <robotNamespace>/centauro</robotNamespace>
  </transmission>
  <transmission name="t_j_wheel_4">
    <type> transmission_interface/SimpleTransmission</type>
    <joint name="j_wheel_4">
      <hardwareInterface>hardware_interface/EffortJointInterface</hardwareInterface>
    </joint>
    <actuator name="motor_j_wheel_4">
      <hardwareInterface>hardware_interface/EffortJointInterface</hardwareInterface>
      <machanicalReduction>1</machanicalReduction>
    </actuator>
    <robotNamespace>/centauro</robotNamespace>
  </transmission>
  <!-- /actuators -->
  <!-- /legs -->
</robot>
